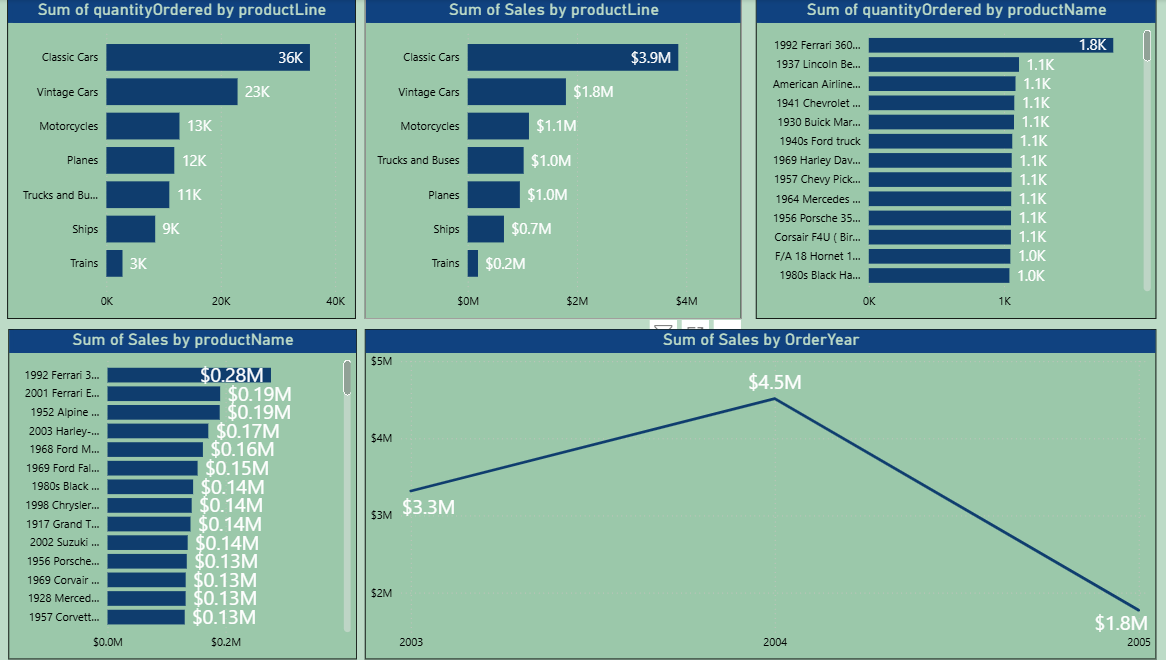

This screenshot's page, from the dashboard's own definition file:
{"tool":"powerbi","page":{"name":"bookmark","canvas":[1280,720],"ordinal":1},"visuals":[{"type":"barChart","fields":{"Y":["Sum(order_details.quantityOrdered)"],"Category":["products.productLine"]},"box":[9.7,0,379.6,348.4],"z":0},{"type":"barChart","fields":{"Category":["products.productName"],"Y":["Sum(order_details.quantityOrdered)"]},"box":[825.8,0,436.6,348.4],"z":1000},{"type":"barChart","fields":{"Y":["Sum(order_details.Sales)"],"Category":["products.productLine"]},"box":[400,0,410.8,348.4],"z":2000},{"type":"barChart","fields":{"Category":["products.productName"],"Y":["Sum(order_details.Sales)"]},"box":[10.8,360.2,379.6,360.2],"z":3000},{"type":"lineChart","fields":{"Y":["Sum(order_details.Sales)"],"Category":["orders.OrderYear"]},"box":[400,360.2,862.4,360.2],"z":4000}]}

Visuals, with their boxes in screenshot pixels (x1, y1, x2, y2), scaled from the page's 1280x720 canvas onto the 1166x660 screenshot:
barChart - Sum(order_details.quantityOrdered) x products.productLine: rect(9, 0, 355, 319)
barChart - products.productName x Sum(order_details.quantityOrdered): rect(752, 0, 1150, 319)
barChart - Sum(order_details.Sales) x products.productLine: rect(364, 0, 739, 319)
barChart - products.productName x Sum(order_details.Sales): rect(10, 330, 356, 659)
lineChart - Sum(order_details.Sales) x orders.OrderYear: rect(364, 330, 1150, 659)
